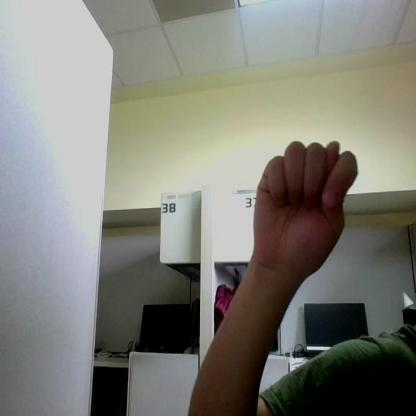T: (254, 141, 358, 272)
